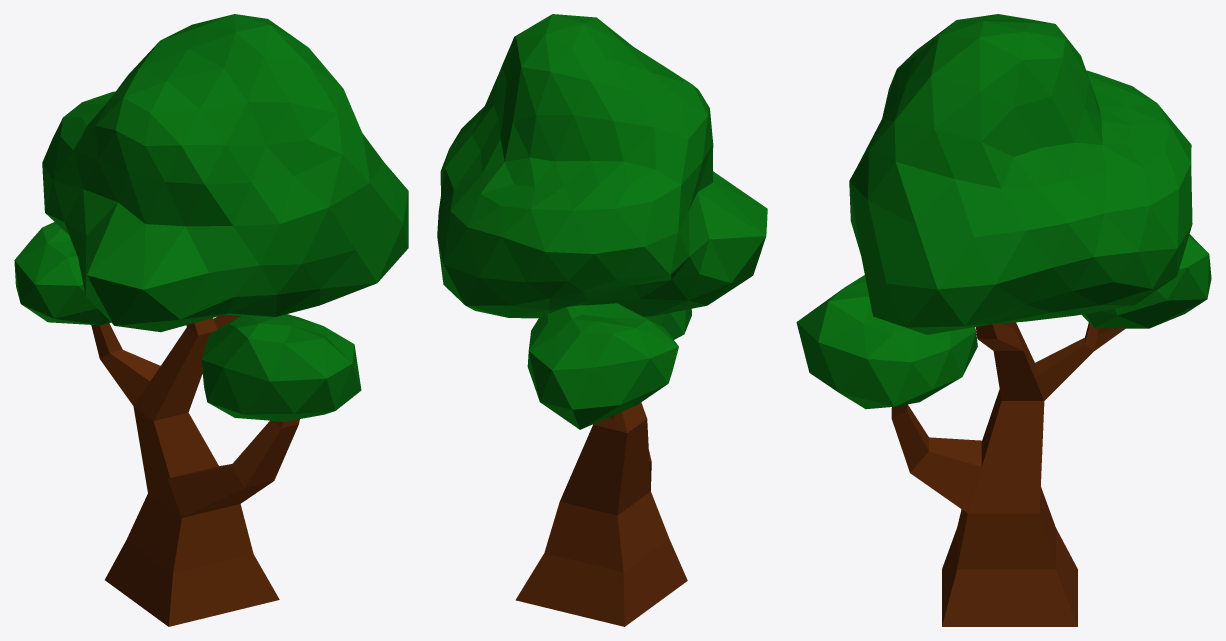
The model's file is Tree.gltf.
3 views of the same model, side by side, from view 1: azimuth 30°, elevation 25°; view 2: azimuth 150°, elevation 25°; view 3: azimuth 270°, elevation 25° (orthographic). The views are drawn at different scales.
Visible parts, largest first — view 1: Leaves, Trunk; view 2: Leaves, Trunk; view 3: Leaves, Trunk.
Boxes of the visible parts, x1=… form: Leaves: x1=14, y1=14, x2=408, y2=421; Trunk: x1=91, y1=315, x2=299, y2=626; Leaves: x1=437, y1=14, x2=767, y2=429; Trunk: x1=515, y1=402, x2=687, y2=626; Leaves: x1=796, y1=14, x2=1211, y2=409; Trunk: x1=891, y1=322, x2=1125, y2=626.
Size of the model in its own units: 11.89 by 19.97 by 12.65.
